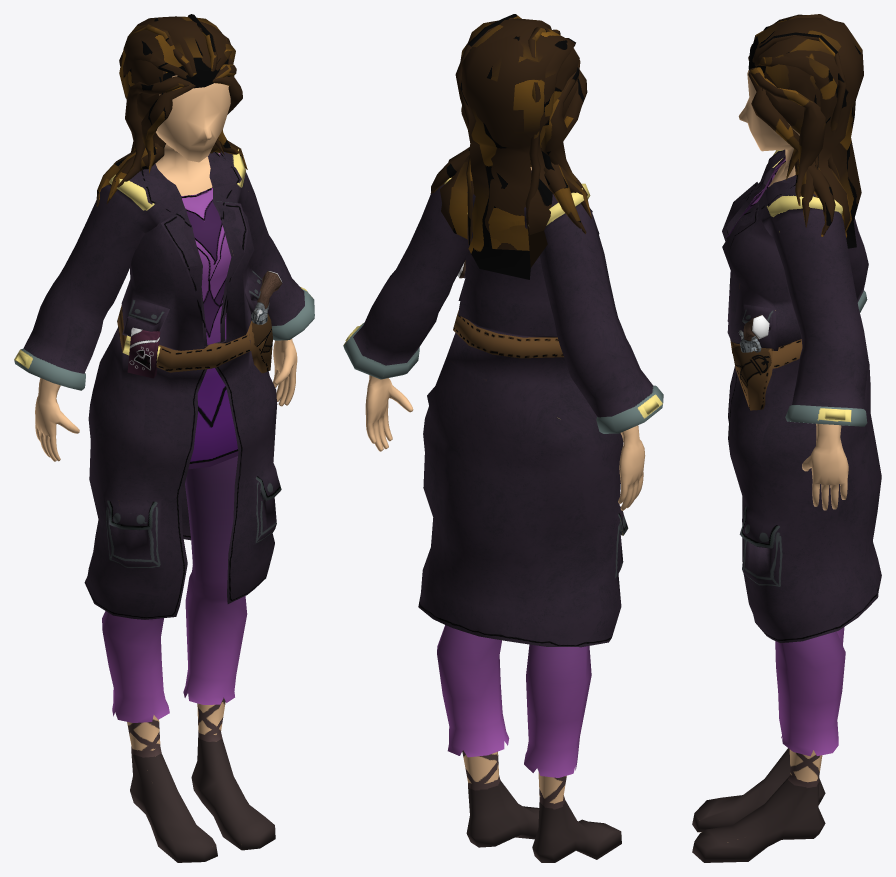
File: Hunter_V5.fbx
3 views of the same model, side by side, from view 1: azimuth 30°, elevation 25°; view 2: azimuth 150°, elevation 25°; view 3: azimuth 270°, elevation 25° (orthographic). The views are drawn at different scales.
Parts seen in each view (by area): view 1: OverCoat1, Body_3, Lower, Hair, Upper, Card1, Pistol; view 2: OverCoat1, Hair, Lower, Body_3; view 3: OverCoat1, Hair, Body_3, Lower, Pistol.
Boxes of the visible parts, x1,y1,x2,y2 form: OverCoat1: (14, 149, 314, 619); Body_3: (35, 75, 297, 862); Lower: (102, 456, 247, 722); Hair: (96, 14, 247, 206); Upper: (181, 153, 238, 469); Card1: (127, 327, 160, 378); Pistol: (251, 271, 282, 324); OverCoat1: (343, 170, 663, 647); Hair: (430, 14, 591, 279); Lower: (437, 625, 591, 777); Body_3: (365, 167, 645, 862); OverCoat1: (722, 149, 881, 642); Hair: (748, 14, 863, 248); Body_3: (692, 69, 848, 862); Lower: (775, 627, 845, 756); Pistol: (738, 314, 769, 352).
Bounding box in the file's own units: 67.9 × 180 × 37.84.
